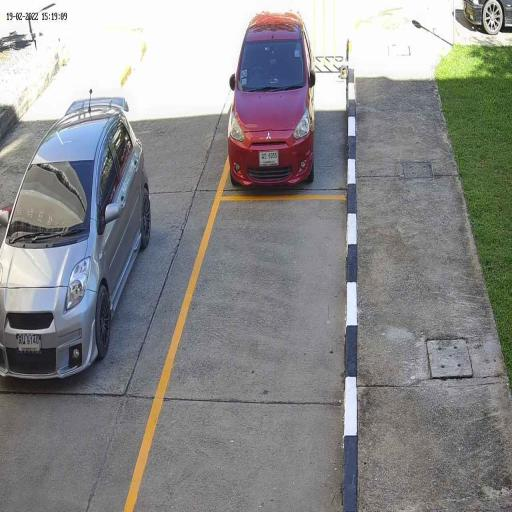car: (0, 98, 151, 380), (228, 12, 316, 189)
